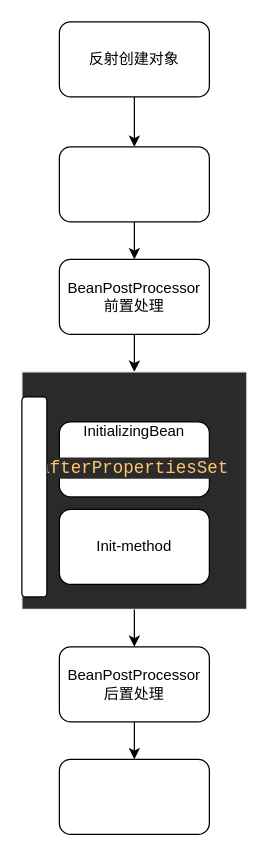
Some shapes in this 269 by 856 pixel diagram are drawn without their labels. Here are the shapes that lost their labels. From the top down, the centre of each, then its label:
At (x=133, y=184): "调用setter方法填充属性".
At (x=34, y=496): "初始化".
At (x=133, y=796): "最终bean对象".
